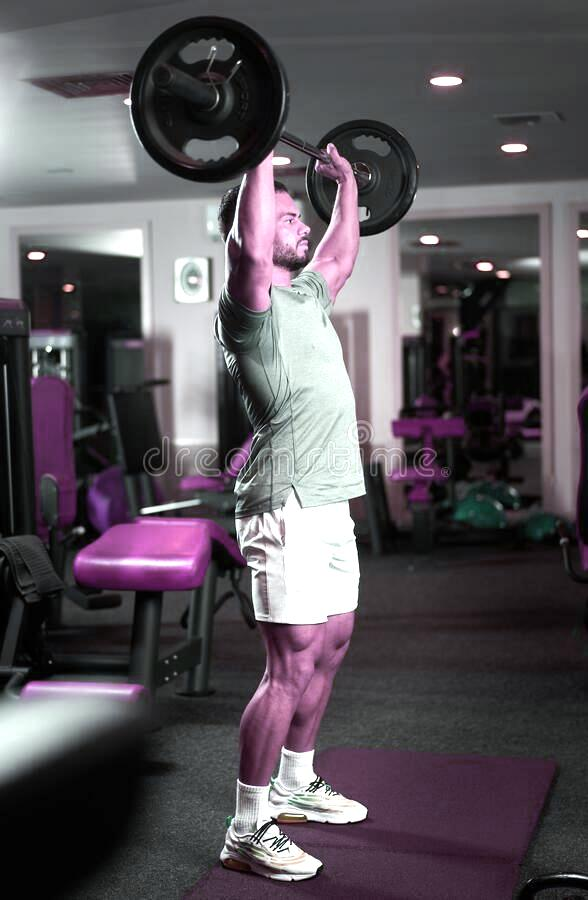Barbell: (145, 53, 185, 96)
